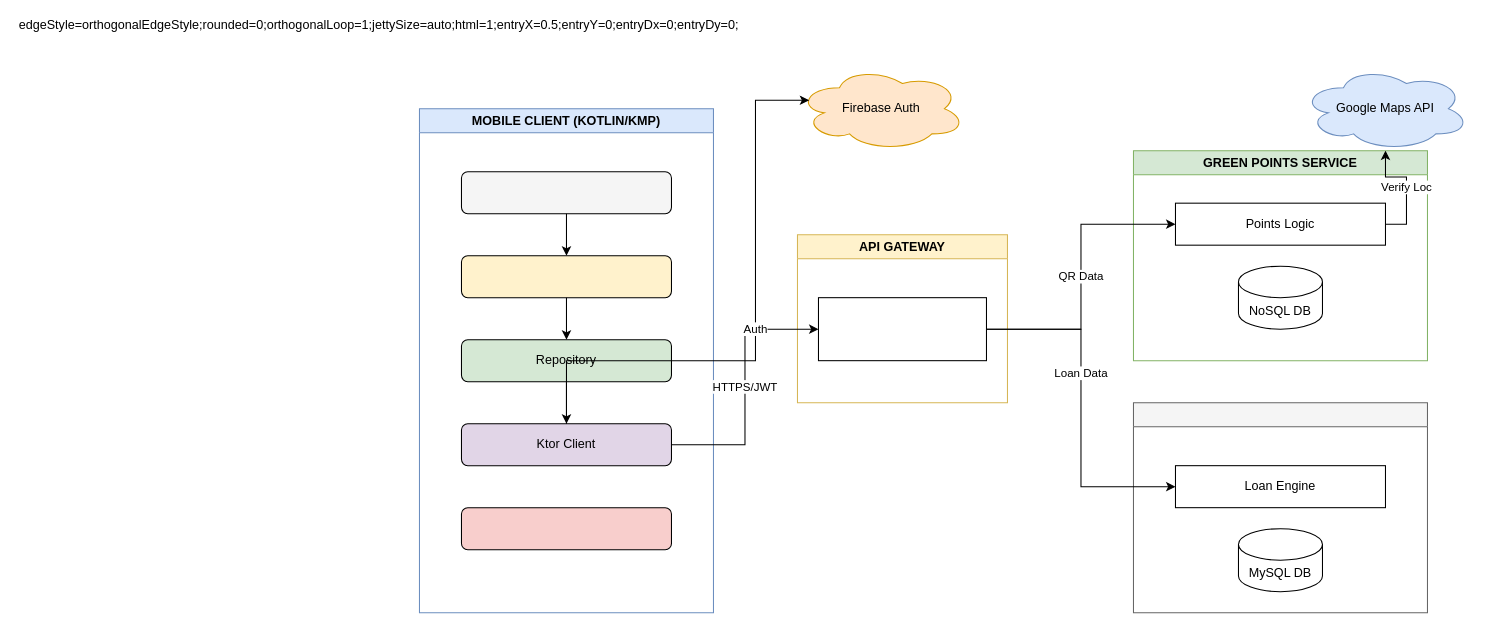
Image size: 1488x631. Some labels were removed from this diagram. The box of each missing label's shape, as (x1, y1, x2, y2) in pixels:
BFF Router: (817, 297, 986, 361)
CameraX (QR): (460, 507, 671, 550)
Compose UI: (460, 171, 671, 214)
LEGACY MIFOS CORE: (1132, 402, 1427, 613)
ViewModel: (460, 255, 671, 298)
